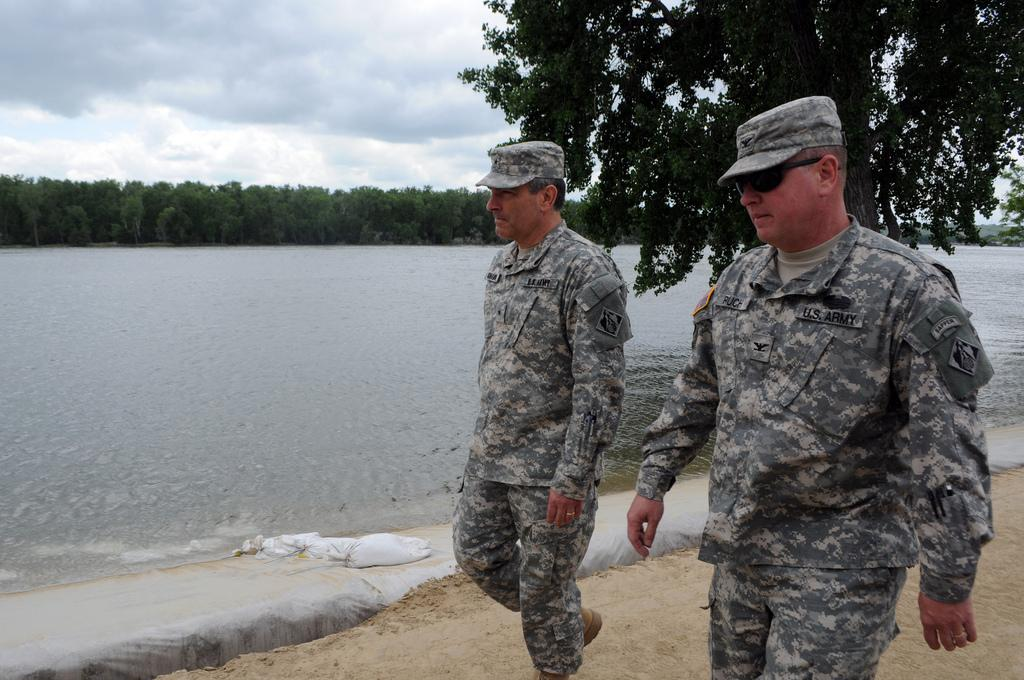Hat: (719, 92, 847, 188), (476, 140, 562, 188)
